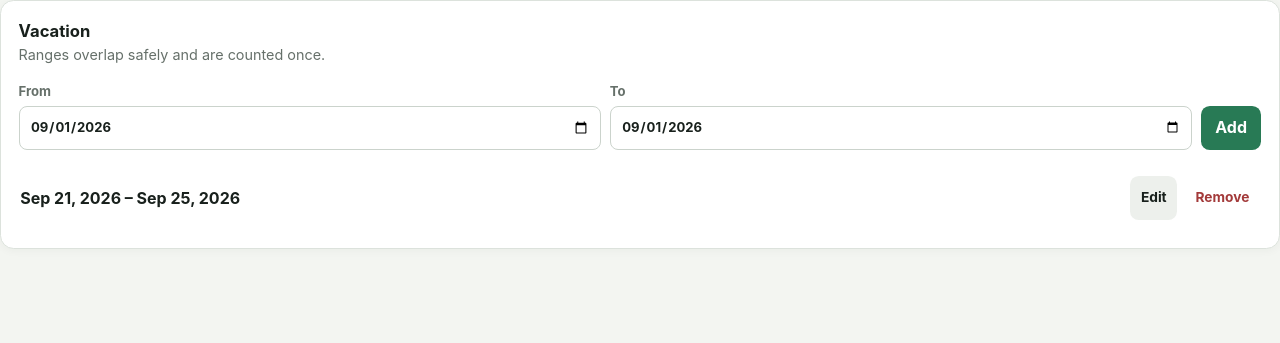
Test: cancels without changing dates or refreshing dependent data
This screenshot has width=1280, height=343.
Step 1. Click the button with aria-label "Edit vacation" → click(1154, 198), box [1130,176,1177,220]
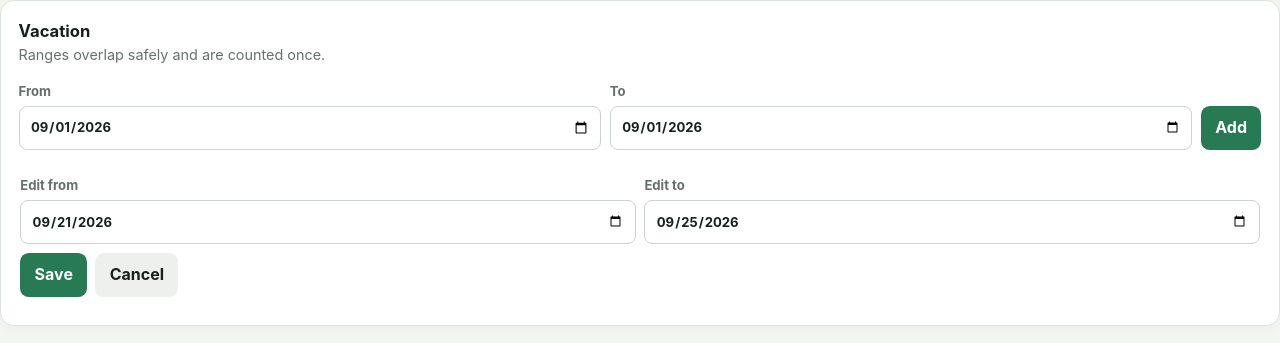
Step 2. Type "2026-09-22" into the date field labelled "Edit from" → (328, 222), box [20,200,636,244]
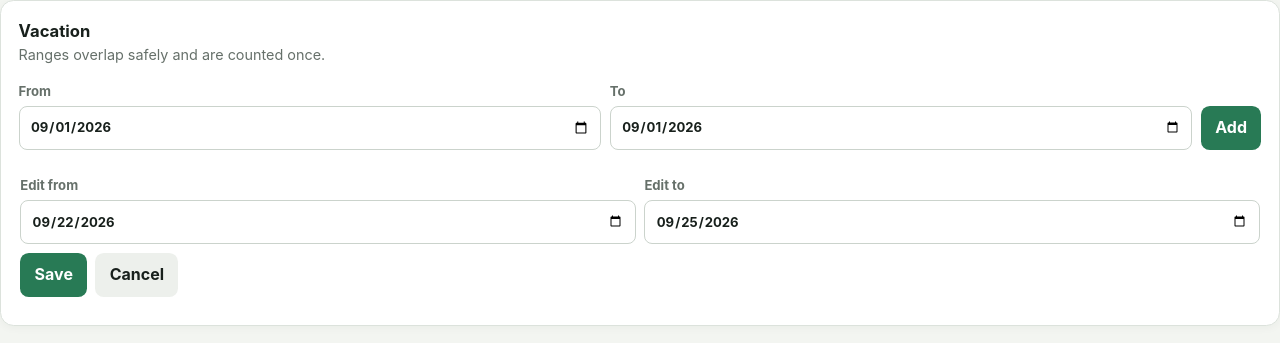
Step 3. Click the button "Cancel" → click(137, 275), box [95,253,178,297]
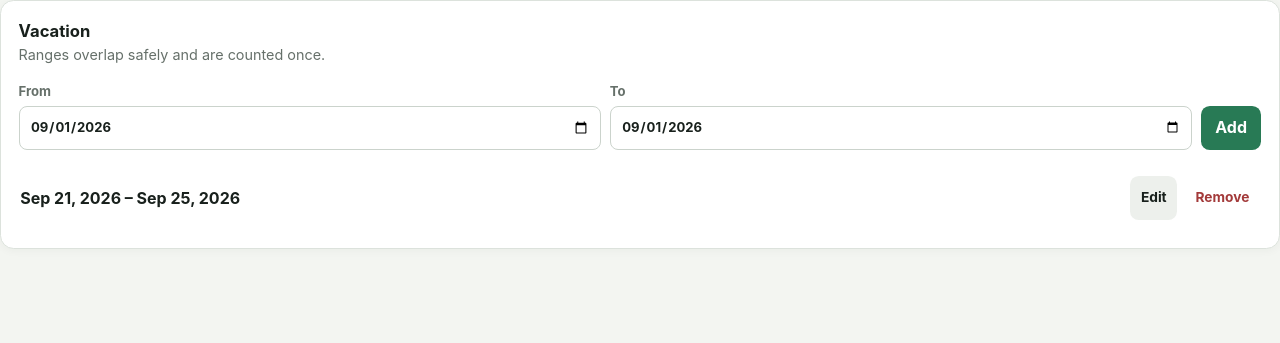
Check: the label labelled "Edit from" is gone
Step 4. Click the button with aria-label "Edit vacation" → click(1154, 198), box [1130,176,1177,220]
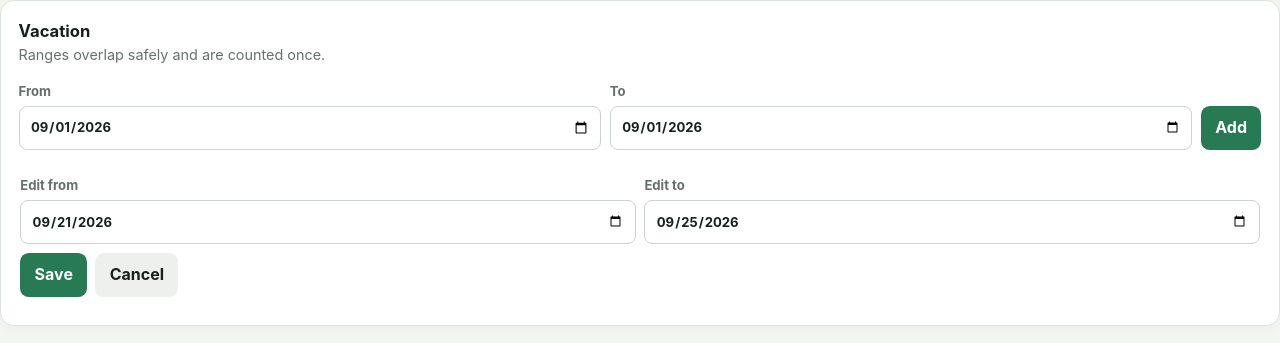
Check: the date field labelled "Edit from" holds "2026-09-21", box [20,200,636,244]
